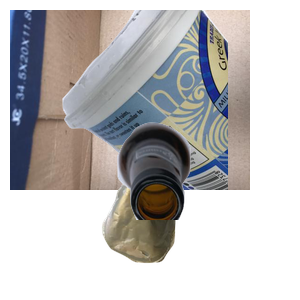cardboard: (10, 10, 250, 190)
glass: (115, 120, 300, 300)
plastic: (60, 10, 300, 190)
trash: (99, 155, 268, 300)
